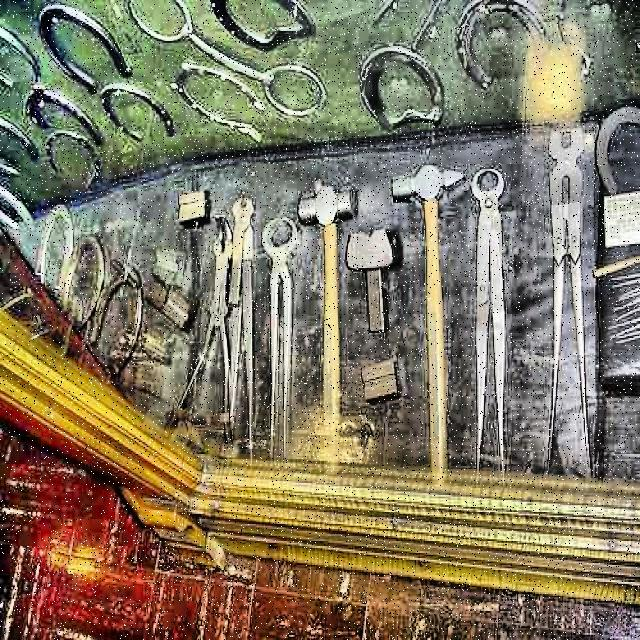hammer: (387, 165, 479, 473), (297, 183, 356, 451)
